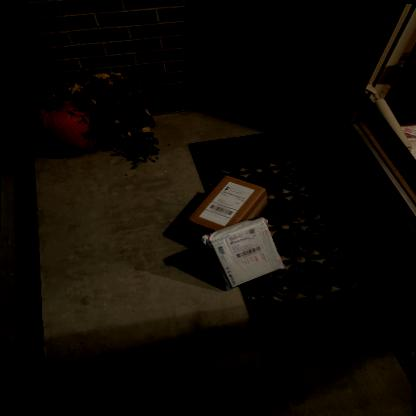box: (188, 175, 267, 231)
plastic_bag: (202, 217, 284, 291)
